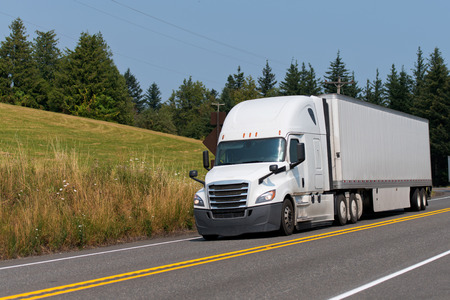truck: (192, 91, 434, 239)
